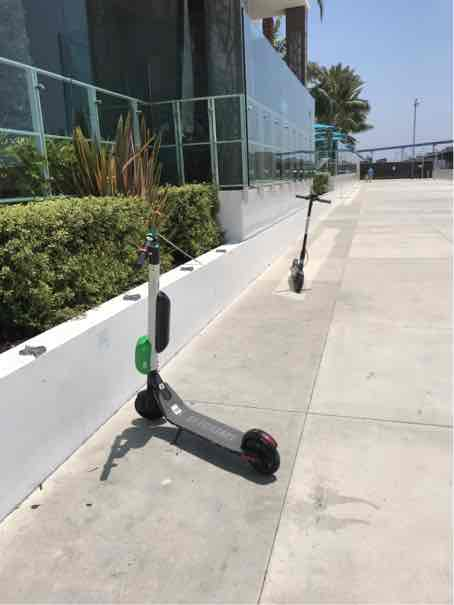scooter: (101, 217, 284, 483)
